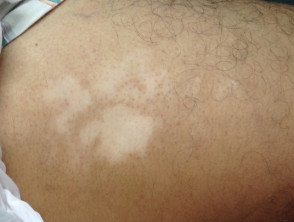vitiligo: (6, 59, 188, 186)
